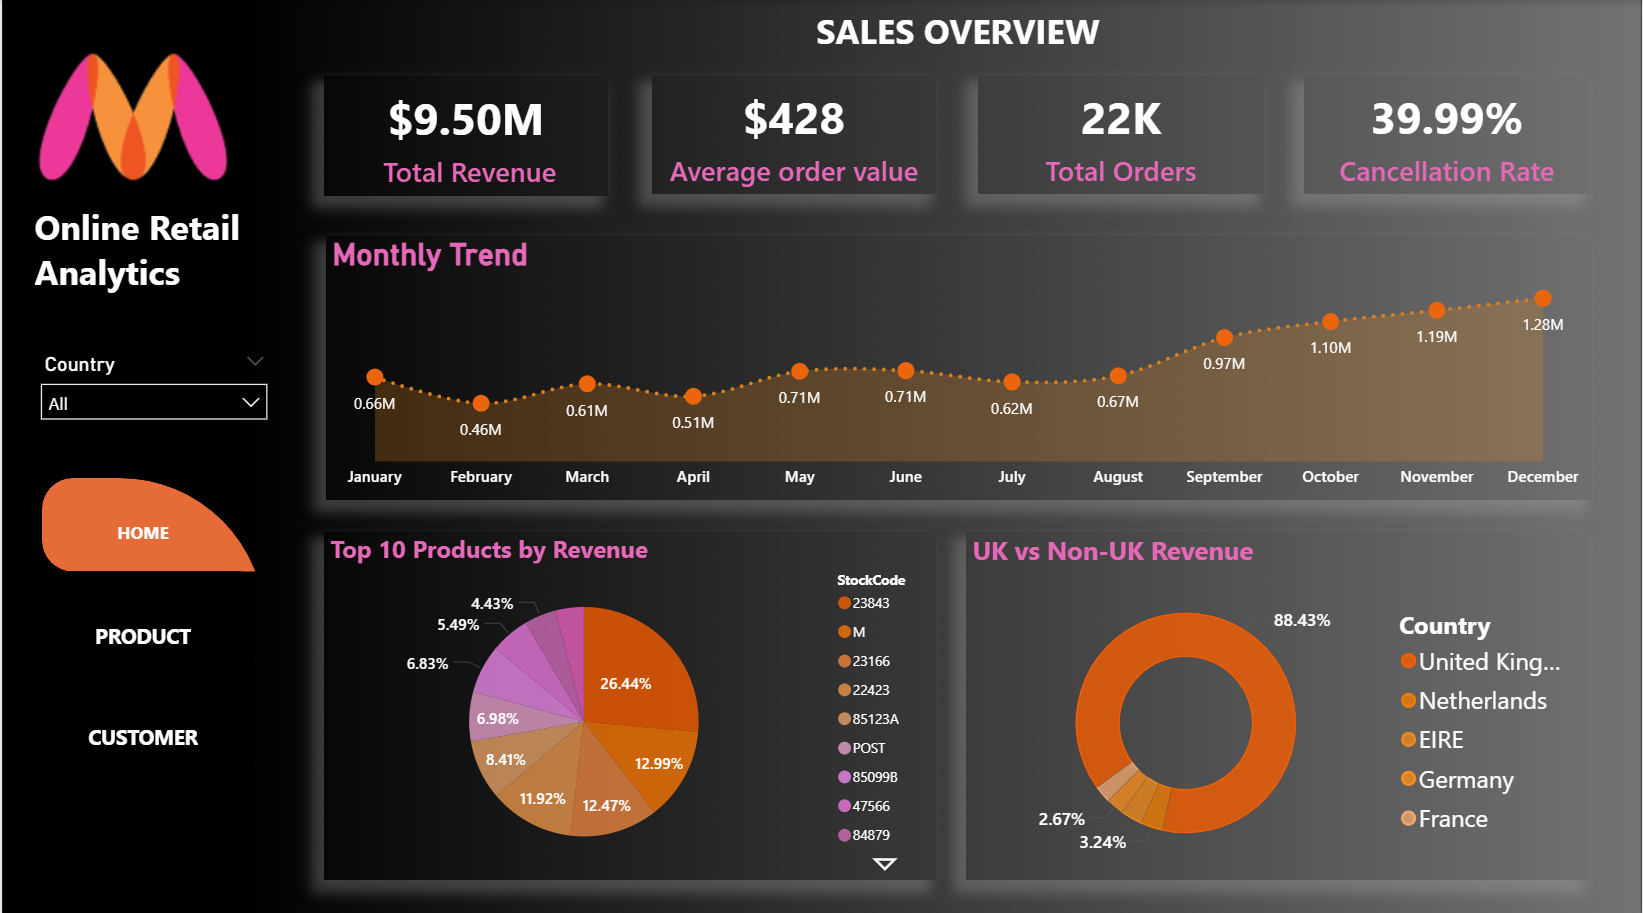

The dashboard page shown, as its layout file describes it:
{"tool":"powerbi","page":{"name":"HOME","canvas":[1280,720],"ordinal":0},"visuals":[{"type":"card","fields":{"Values":["MNT.Revenue"]},"box":[251.5,59.3,221.8,93.7],"z":0,"group":"g1"},{"type":"lineChart","title":"Monthly Trend","fields":{"Category":["MNT.InvoiceDate.Variation.Date Hierarchy.Month"],"Y":["Sum(MNT.Sale)"]},"box":[253,184.3,988.6,206.2],"z":0},{"type":"card","fields":{"Values":["MNT.Average order value"]},"box":[507.6,59.3,221.8,92.2],"z":1000,"group":"g1"},{"type":"slicer","fields":{"Values":["MNT.Country"]},"box":[20.3,270.2,196.8,64],"z":1000},{"type":"card","fields":{"Values":["MNT.Total Orders"]},"box":[762.2,59.3,223.3,92.2],"z":2000,"group":"g1"},{"type":"textbox","box":[20.3,153.1,196.8,92.1],"z":2000},{"type":"card","fields":{"Values":["MNT.Cancellation Rate"]},"box":[1016.8,59.3,223.3,92.2],"z":3000,"group":"g1"},{"type":"pageNavigator","box":[31.2,373.3,174.9,231.1],"z":3000},{"type":"group","id":"g1","title":"Group 1","box":[251.5,59.3,988.6,93.7],"z":4000},{"type":"textbox","box":[618.5,0,256.1,45.3],"z":5000},{"type":"pieChart","title":"Top 10 Products by Revenue","fields":{"Y":["Sum(MNT.Sale)"],"Category":["MNT.StockCode"]},"box":[251.5,415.4,477.9,271.8],"z":5000,"group":"g2"},{"type":"group","id":"g2","title":"Group 2","box":[251.5,415.4,988.6,271.8],"z":6000},{"type":"donutChart","title":"UK vs Non-UK Revenue","fields":{"Y":["Sum(MNT.Sale)"],"Category":["MNT.Country"]},"box":[752.8,415.4,487.3,271.8],"z":6000,"group":"g2"},{"type":"actionButton","box":[48.4,468.5,131.2,45.3],"z":6001},{"type":"actionButton","box":[48.4,551.3,131.2,45.3],"z":6002},{"type":"actionButton","box":[48.4,390.5,131.2,45.3],"z":6003}]}

Visuals, with their boxes in screenshot pixels (x1, y1, x2, y2), scaled from the page's 1280x720 canvas onto the 1643x913 screenshot:
card - MNT.Revenue: <region>323, 75, 608, 194</region>
"Monthly Trend" lineChart: <region>325, 234, 1594, 495</region>
card - MNT.Average order value: <region>652, 75, 936, 192</region>
slicer - MNT.Country: <region>26, 343, 279, 424</region>
card - MNT.Total Orders: <region>978, 75, 1265, 192</region>
textbox: <region>26, 194, 279, 311</region>
card - MNT.Cancellation Rate: <region>1305, 75, 1592, 192</region>
pageNavigator: <region>40, 473, 265, 766</region>
"Group 1" group: <region>323, 75, 1592, 194</region>
textbox: <region>794, 0, 1123, 57</region>
"Top 10 Products by Revenue" pieChart: <region>323, 527, 936, 871</region>
"Group 2" group: <region>323, 527, 1592, 871</region>
"UK vs Non-UK Revenue" donutChart: <region>966, 527, 1592, 871</region>
actionButton: <region>62, 594, 231, 652</region>
actionButton: <region>62, 699, 231, 757</region>
actionButton: <region>62, 495, 231, 553</region>
